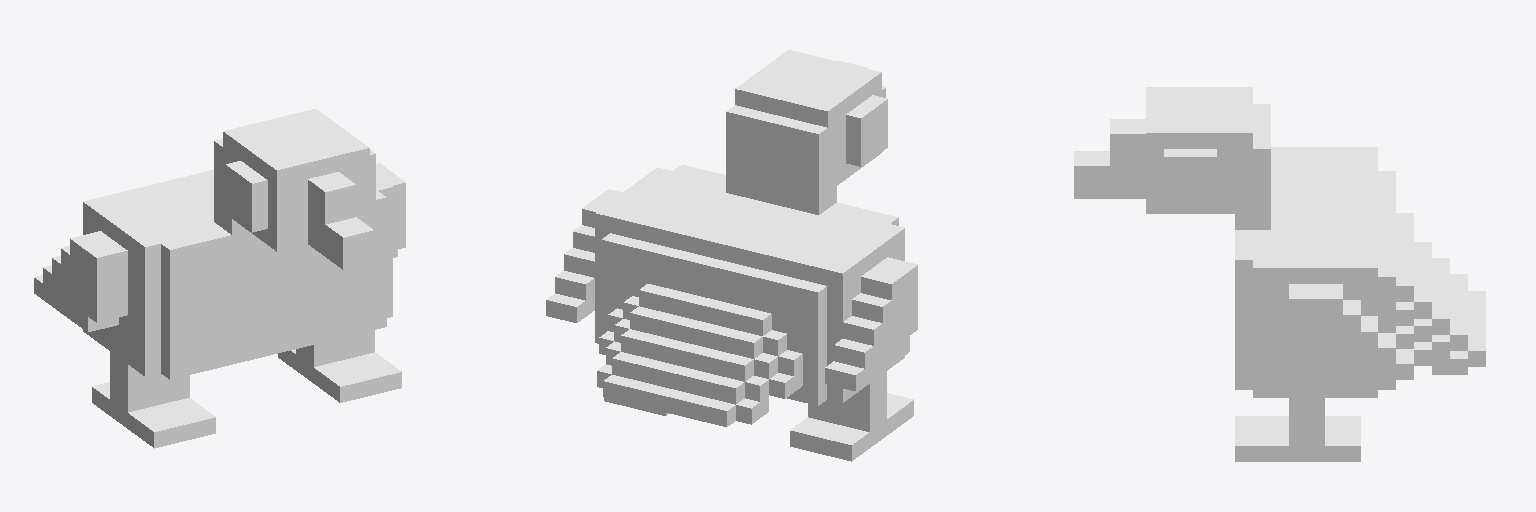
File: Chicken-2.obj
3 views of the same model, side by side, from view 1: azimuth 30°, elevation 25°; view 2: azimuth 150°, elevation 25°; view 3: azimuth 270°, elevation 25° (orthographic).
Parts seen in each view (by area): view 1: object 1; view 2: object 1; view 3: object 1.
Part boxes in pixels (x1,y1,x2,y2): object 1: (34, 109, 405, 448); object 1: (546, 50, 917, 461); object 1: (1074, 87, 1485, 461).
Bounding box in the file's own units: 2 × 1.8 × 2.3.